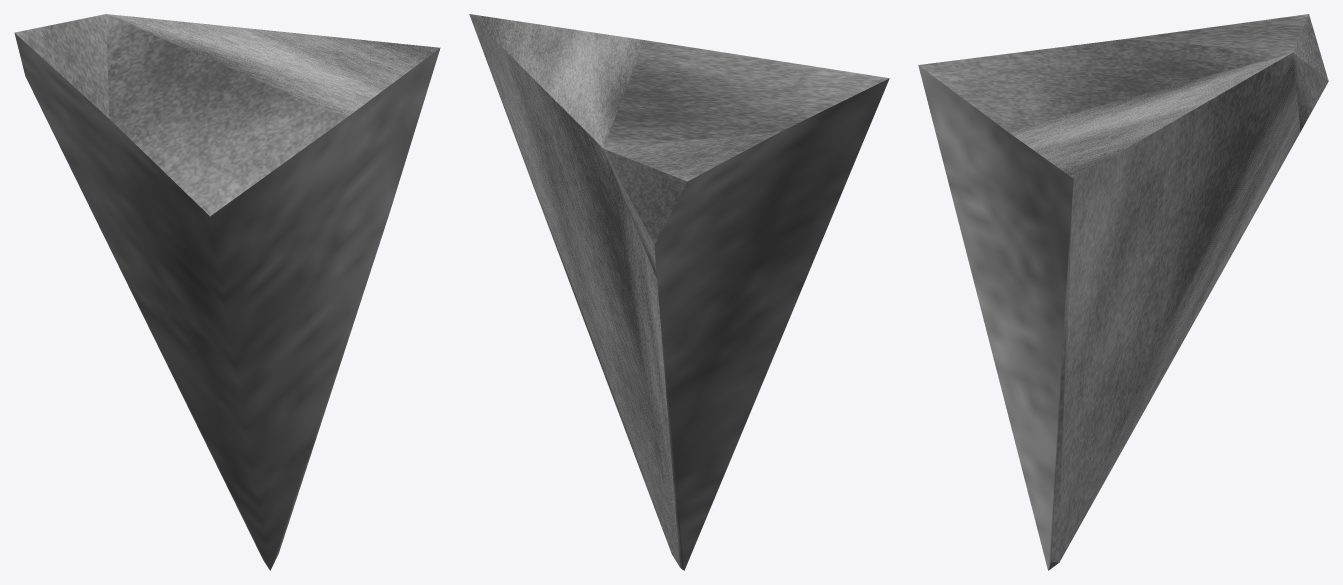
Rendered from leg_4_cell_015.fbx.
3 renders of one model, left to right at view 1: azimuth 30°, elevation 25°; view 2: azimuth 150°, elevation 25°; view 3: azimuth 270°, elevation 25°, orthographic. The views are drawn at different scales.
Parts seen in each view (by area): view 1: leg_4_cell.015; view 2: leg_4_cell.015; view 3: leg_4_cell.015.
Part boxes in pixels (x1,y1,x2,y2): leg_4_cell.015: (14, 14, 440, 570); leg_4_cell.015: (469, 14, 889, 570); leg_4_cell.015: (918, 14, 1328, 570).
Bounding box in the file's own units: 14.09 × 20.75 × 15.57.
